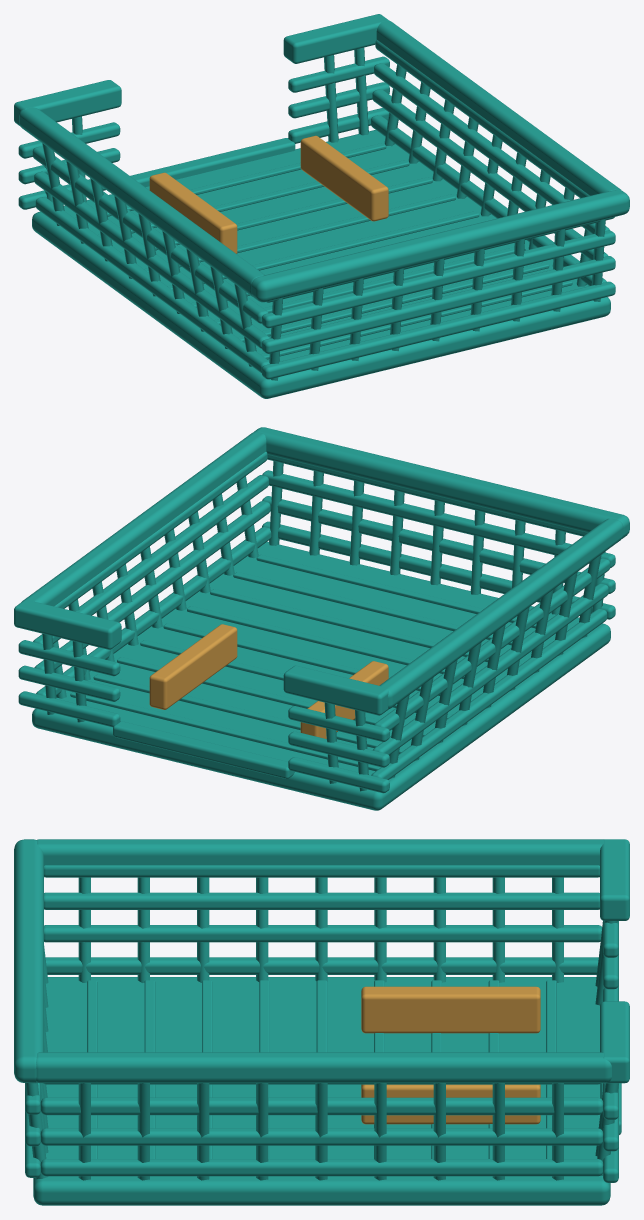
The model's file is chassis-plastic-basket-light.glb.
3 renders of one model, top to bottom at view 1: azimuth 30°, elevation 25°; view 2: azimuth 150°, elevation 25°; view 3: azimuth 270°, elevation 25°, orthographic. The views are drawn at different scales.
Visible parts, largest first — view 1: plastic, brass; view 2: plastic, brass; view 3: plastic, brass.
Boxes of the visible parts, bbox=[...] form: plastic: bbox=[14, 14, 629, 398]; brass: bbox=[149, 135, 388, 253]; plastic: bbox=[14, 427, 629, 810]; brass: bbox=[149, 624, 388, 738]; plastic: bbox=[14, 839, 629, 1205]; brass: bbox=[361, 986, 540, 1124].
Size of the model in its own units: 1.48 by 0.4775 by 1.72.
